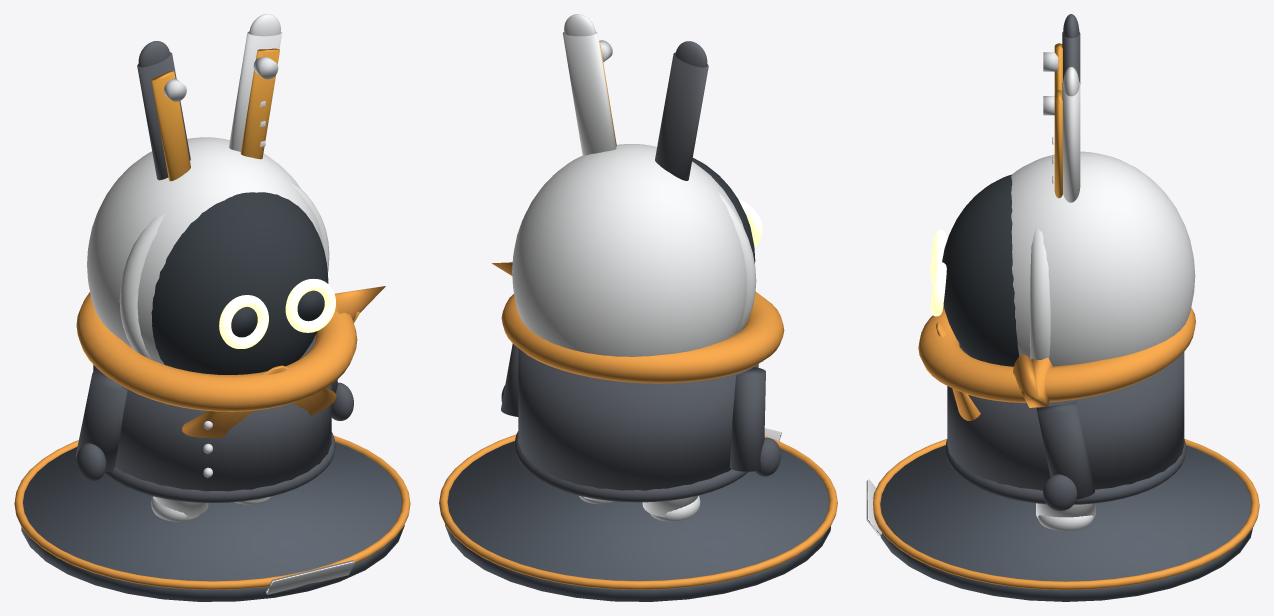
File: bangboo_eous.glb
3 views of the same model, side by side, from view 1: azimuth 30°, elevation 25°; view 2: azimuth 150°, elevation 25°; view 3: azimuth 270°, elevation 25° (orthographic). The views are drawn at different scales.
Visible parts, largest first — view 1: Eous_Display_Pedestal, Eous_FaceVisor, Eous_Hood_Back, Eous_Jacket, Eous_Scarf_Main, Eous_Pedestal_Rim, Eous_Arm_L, Eous_Jacket_Hem, Eous_Hood_Rim, Eous_Ear_L_Inner, Eous_Ear_R_Inner, Eous_Scarf_Bib (+13 smaller); view 2: Eous_Hood_Back, Eous_Display_Pedestal, Eous_Jacket, Eous_Scarf_Main, Eous_Pedestal_Rim, Eous_Ear_R_Outer, Eous_Ear_L_Outer, Eous_Arm_L, Eous_Jacket_Hem, Eous_Hood_Rim, Eous_Arm_R, Eous_FaceVisor (+4 smaller); view 3: Eous_Display_Pedestal, Eous_Hood_Back, Eous_Jacket, Eous_FaceVisor, Eous_Scarf_Main, Eous_Pedestal_Rim, Eous_Arm_R, Eous_Jacket_Hem, Eous_Hood_Rim, Eous_Ear_R_Outer, 球體.003, Eous_Ear_R_Inner (+7 smaller).
Part boxes in pixels (x1=…): Eous_Display_Pedestal: x1=21, y1=442, x2=404, y2=601; Eous_FaceVisor: x1=151, y1=192, x2=328, y2=374; Eous_Hood_Back: x1=87, y1=137, x2=323, y2=364; Eous_Jacket: x1=93, y1=337, x2=331, y2=502; Eous_Scarf_Main: x1=76, y1=292, x2=357, y2=411; Eous_Pedestal_Rim: x1=14, y1=435, x2=410, y2=589; Eous_Arm_L: x1=76, y1=369, x2=127, y2=471; Eous_Jacket_Hem: x1=104, y1=432, x2=335, y2=502; Eous_Hood_Rim: x1=119, y1=183, x2=329, y2=359; Eous_Ear_L_Inner: x1=151, y1=71, x2=190, y2=181; Eous_Ear_R_Inner: x1=240, y1=48, x2=279, y2=159; Eous_Scarf_Bib: x1=182, y1=365, x2=336, y2=438; Eous_Hood_Back: x1=512, y1=144, x2=746, y2=356; Eous_Display_Pedestal: x1=445, y1=441, x2=830, y2=601; Eous_Jacket: x1=518, y1=348, x2=758, y2=501; Eous_Scarf_Main: x1=501, y1=292, x2=784, y2=383; Eous_Pedestal_Rim: x1=439, y1=434, x2=837, y2=589; Eous_Ear_R_Outer: x1=562, y1=32, x2=616, y2=155; Eous_Ear_L_Outer: x1=655, y1=52, x2=708, y2=180; Eous_Arm_L: x1=730, y1=367, x2=765, y2=471; Eous_Jacket_Hem: x1=514, y1=431, x2=748, y2=502; Eous_Hood_Rim: x1=718, y1=190, x2=756, y2=333; Eous_Arm_R: x1=501, y1=343, x2=518, y2=416; Eous_FaceVisor: x1=692, y1=158, x2=755, y2=263; Eous_Display_Pedestal: x1=880, y1=445, x2=1252, y2=601; Eous_Hood_Back: x1=1011, y1=151, x2=1195, y2=366; Eous_Jacket: x1=947, y1=343, x2=1184, y2=490; Eous_FaceVisor: x1=942, y1=174, x2=1019, y2=366; Eous_Scarf_Main: x1=918, y1=306, x2=1195, y2=402; Eous_Pedestal_Rim: x1=873, y1=439, x2=1259, y2=589; Eous_Arm_R: x1=1036, y1=402, x2=1094, y2=499; Eous_Jacket_Hem: x1=945, y1=439, x2=1186, y2=504; Eous_Hood_Rim: x1=1030, y1=226, x2=1050, y2=360; Eous_Ear_R_Outer: x1=1062, y1=81, x2=1080, y2=202; 球體.003: x1=1043, y1=474, x2=1076, y2=510; Eous_Ear_R_Inner: x1=1054, y1=90, x2=1062, y2=198.
Bounding box in the file's own units: 3.6 × 4.92 × 3.65.
